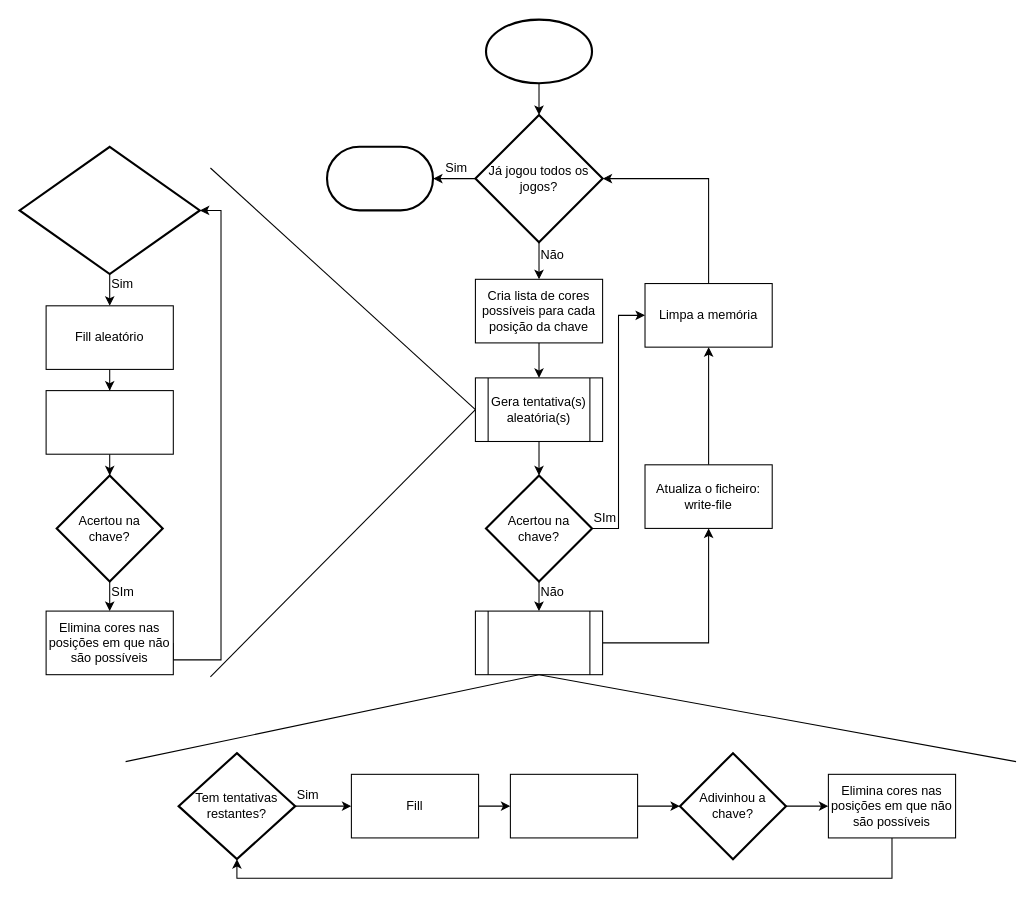
The diagram is 1036 pixels wide and 905 high, and some of its shapes have lost their labels. Each missing label, with the centre of its shape:
Compara a tentativa com a chave: point (109, 422)
Compara com a chave: point (573, 805)
Fim do algoritmo: point (379, 178)
Gera a(s) tentativa(s) "lógica(s)": point (538, 642)
Início algoritmo: point (538, 51)
Tem tentativas aleatórias restantes?: point (109, 210)
